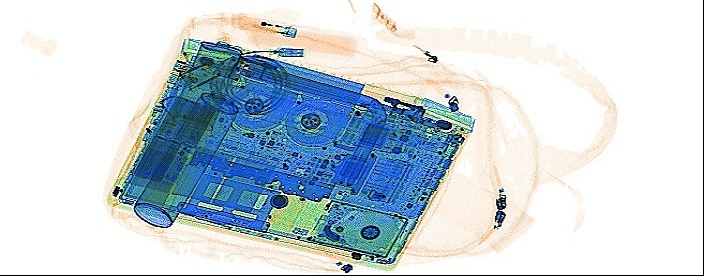lighter: (229, 9, 296, 38)
powerbank: (130, 92, 218, 184)
pressure: (132, 84, 238, 226)
zippooil: (171, 39, 238, 129)
